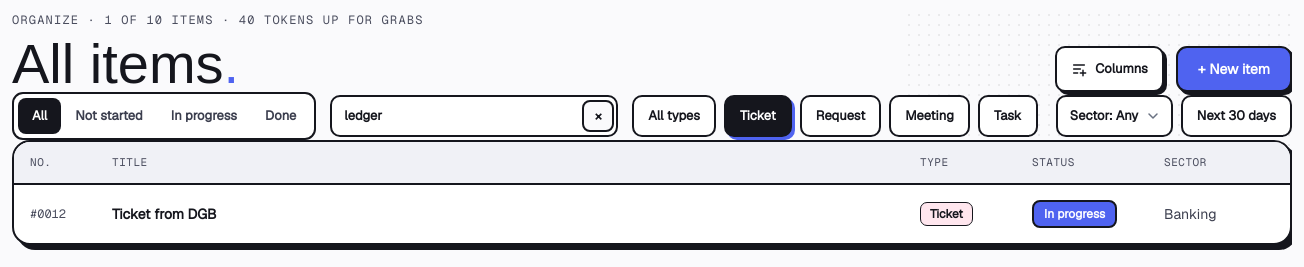
Test case: All items search › clears q immediately
Click the button named "Clear search": coordinates (598, 116) [582,100,614,132]
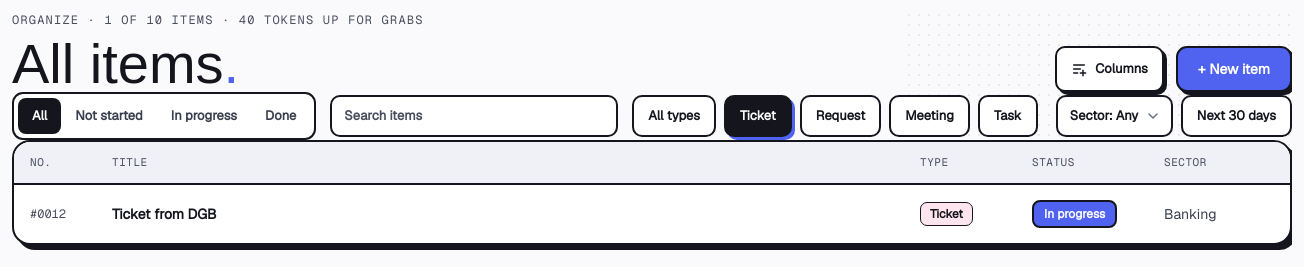
Expected: the search field labelled "Search items" is empty, [330,95,618,137]
